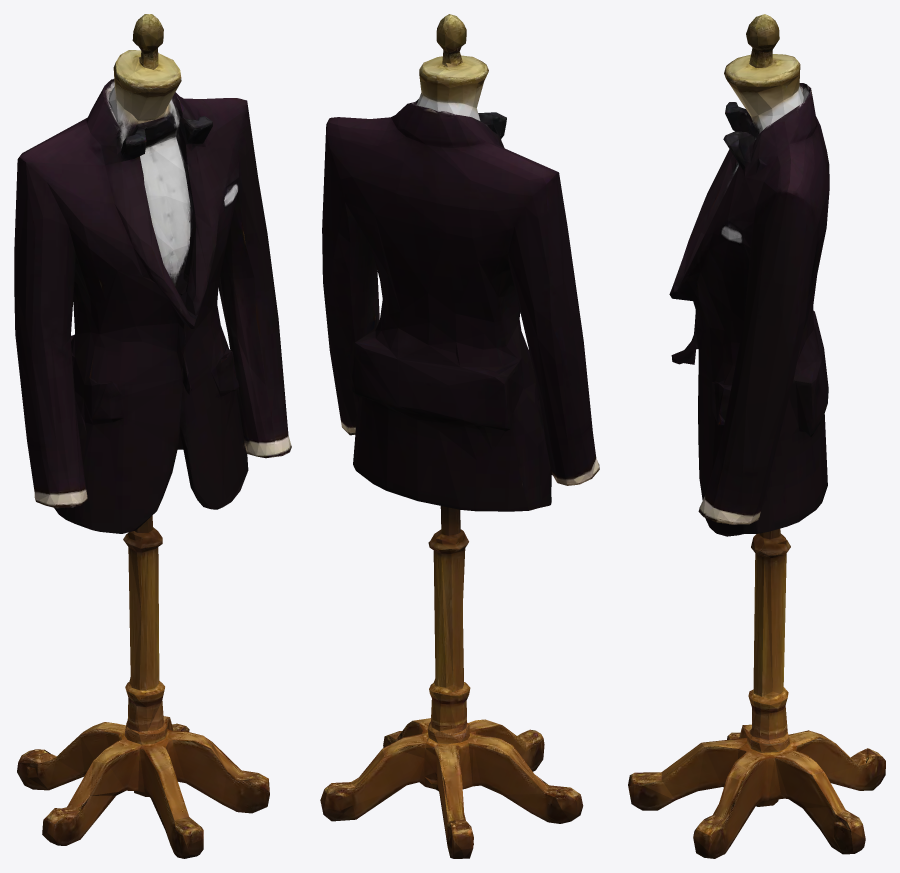
3 views of the same model, side by side, from view 1: azimuth 30°, elevation 25°; view 2: azimuth 150°, elevation 25°; view 3: azimuth 270°, elevation 25° (orthographic).
Parts seen in each view (by area): view 1: geometry_0; view 2: geometry_0; view 3: geometry_0.
Boxes of the visible parts, box(x1,y1,x2,y2) form: geometry_0: box(14, 14, 291, 858); geometry_0: box(320, 14, 599, 858); geometry_0: box(628, 14, 885, 858).
Size of the model in its own units: 0.3293 by 0.9999 by 0.2912.
1 material, 1 textured.
